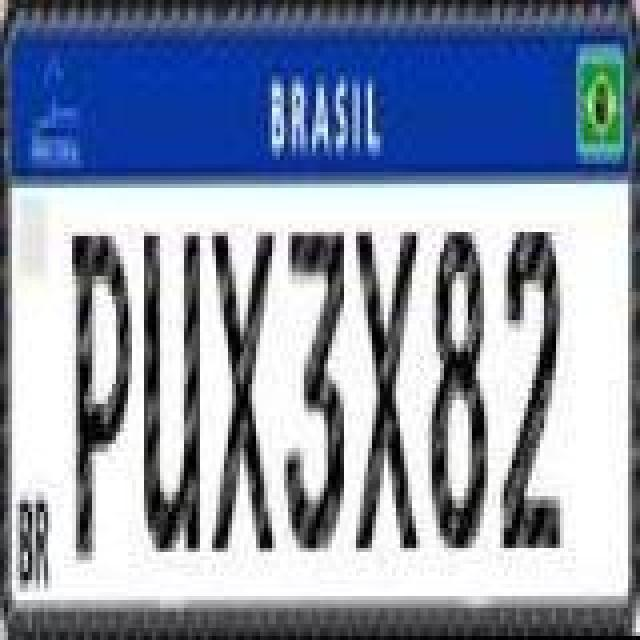2: (496, 226, 560, 550)
3: (280, 228, 344, 552)
8: (424, 228, 488, 552)
P: (72, 232, 136, 568)
U: (142, 228, 202, 552)
X: (210, 228, 278, 552), (356, 228, 420, 552)
